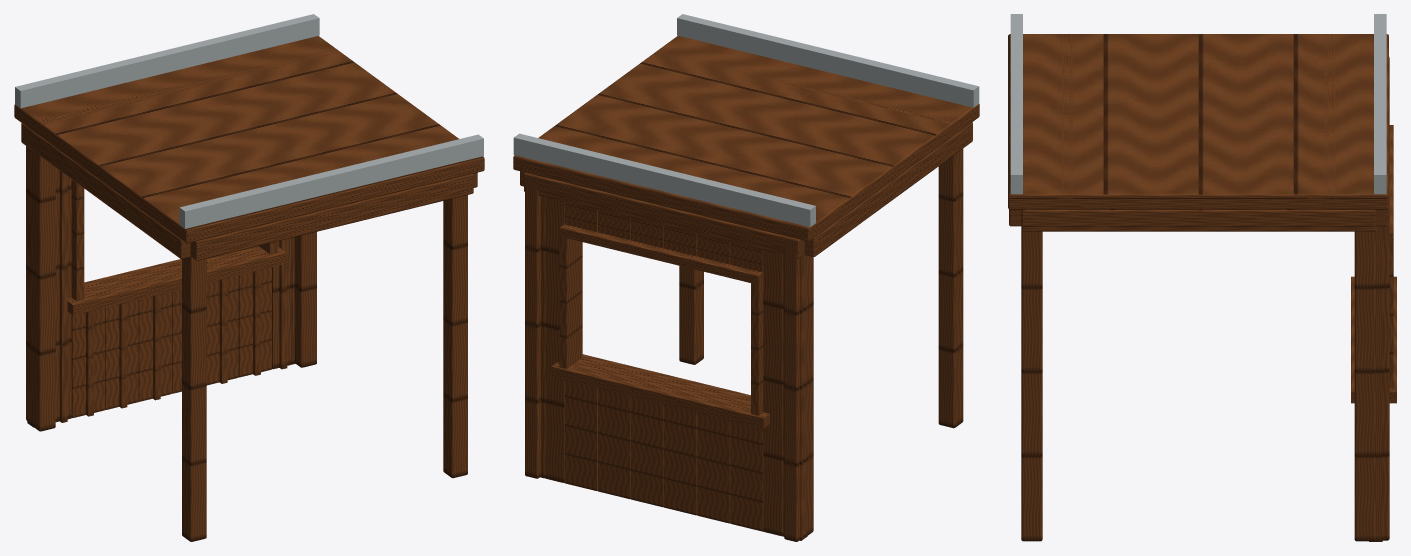
The model's file is roadside-survival-stops-service-kiosk-shell-0ee82b7b__23548.glb.
3 renders of one model, left to right at view 1: azimuth 30°, elevation 25°; view 2: azimuth 150°, elevation 25°; view 3: azimuth 270°, elevation 25°, orthographic. The views are drawn at different scales.
Parts seen in each view (by area): view 1: service-kiosk-shell; view 2: service-kiosk-shell; view 3: service-kiosk-shell.
Part boxes in pixels (bbox=[...]): service-kiosk-shell: bbox=[14, 14, 484, 541]; service-kiosk-shell: bbox=[513, 14, 979, 541]; service-kiosk-shell: bbox=[1008, 14, 1396, 541].
Size of the model in its own units: 2.15 by 2.32 by 2.19.
2 materials, 1 textured.
